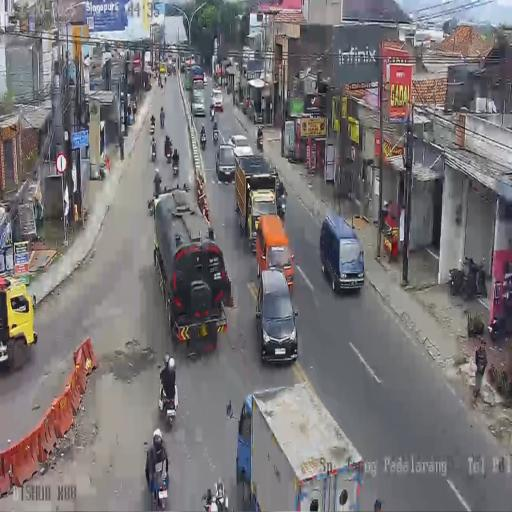car: (256, 268, 299, 364), (320, 210, 366, 295), (216, 142, 237, 182), (228, 134, 253, 156), (192, 85, 206, 117), (210, 86, 224, 112), (202, 75, 208, 86), (160, 64, 166, 74), (186, 75, 190, 90)
motorcycle: (158, 370, 179, 429), (487, 308, 509, 343), (164, 140, 172, 164), (172, 153, 179, 176), (256, 132, 264, 151), (200, 129, 207, 150), (212, 125, 219, 143), (151, 140, 156, 162), (149, 118, 155, 134), (210, 106, 215, 122), (158, 75, 162, 90), (160, 114, 164, 129), (172, 64, 176, 75), (164, 73, 167, 85)
truck: (241, 384, 366, 509), (234, 153, 276, 245), (0, 277, 37, 370), (184, 53, 194, 70)
